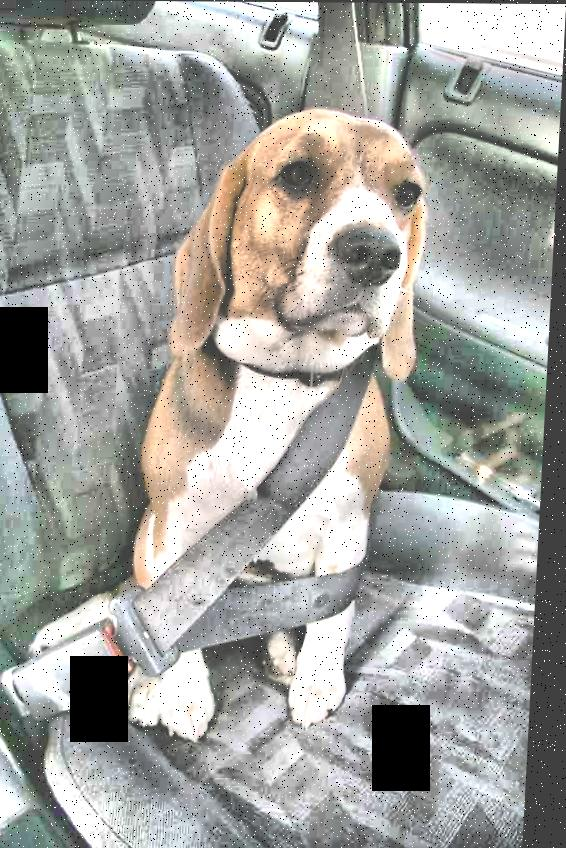seatbelt: (31, 113, 461, 717)
